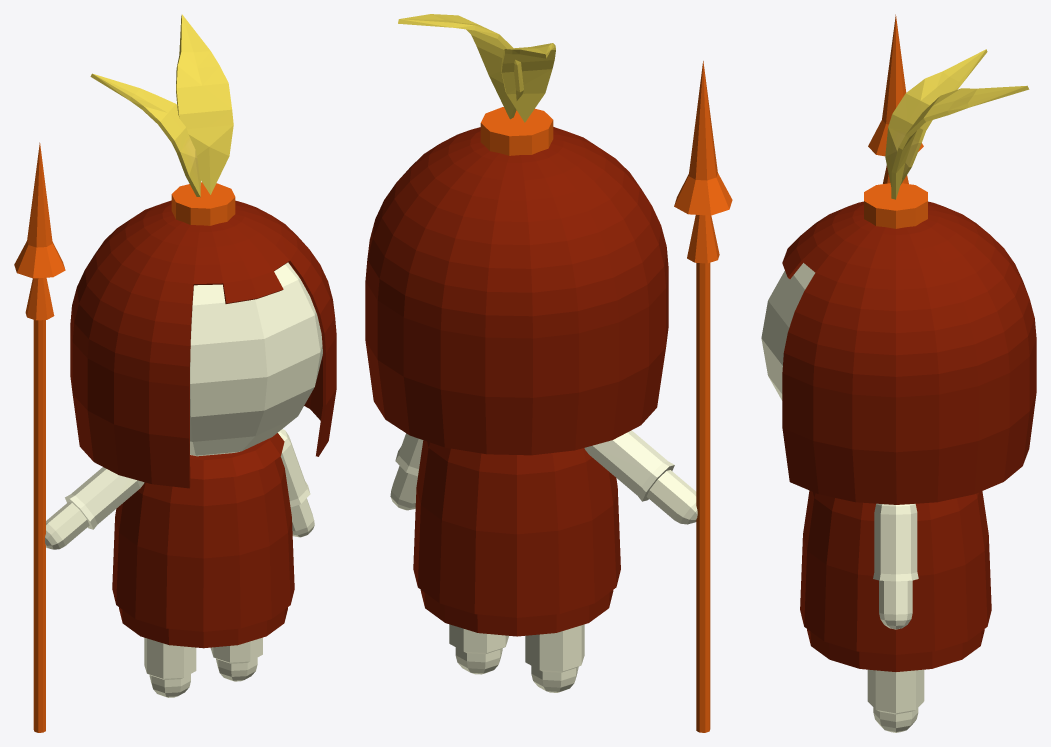
The model's file is M_Player_Red_01.fbx.
3 views of the same model, side by side, from view 1: azimuth 30°, elevation 25°; view 2: azimuth 150°, elevation 25°; view 3: azimuth 270°, elevation 25° (orthographic). The views are drawn at different scales.
Parts seen in each view (by area): view 1: Original; view 2: Original; view 3: Original.
Part boxes in pixels (x1=…): Original: x1=14, y1=14, x2=336, y2=732; Original: x1=365, y1=14, x2=732, y2=732; Original: x1=761, y1=14, x2=1036, y2=732.
Size of the model in its own units: 54.61 by 107 by 40.92.
